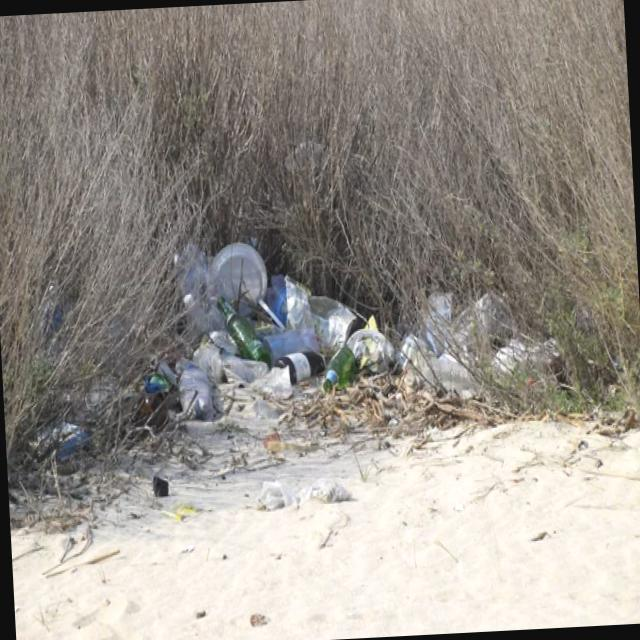garbage: (110, 211, 400, 524)
